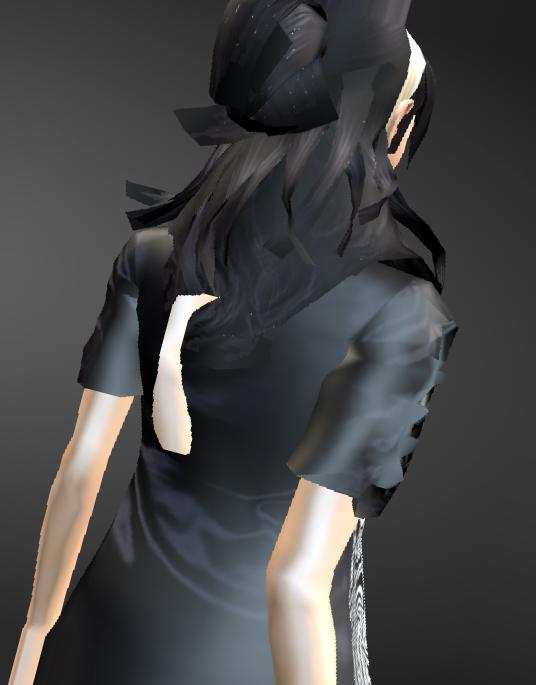clip: (162, 289, 213, 370)
